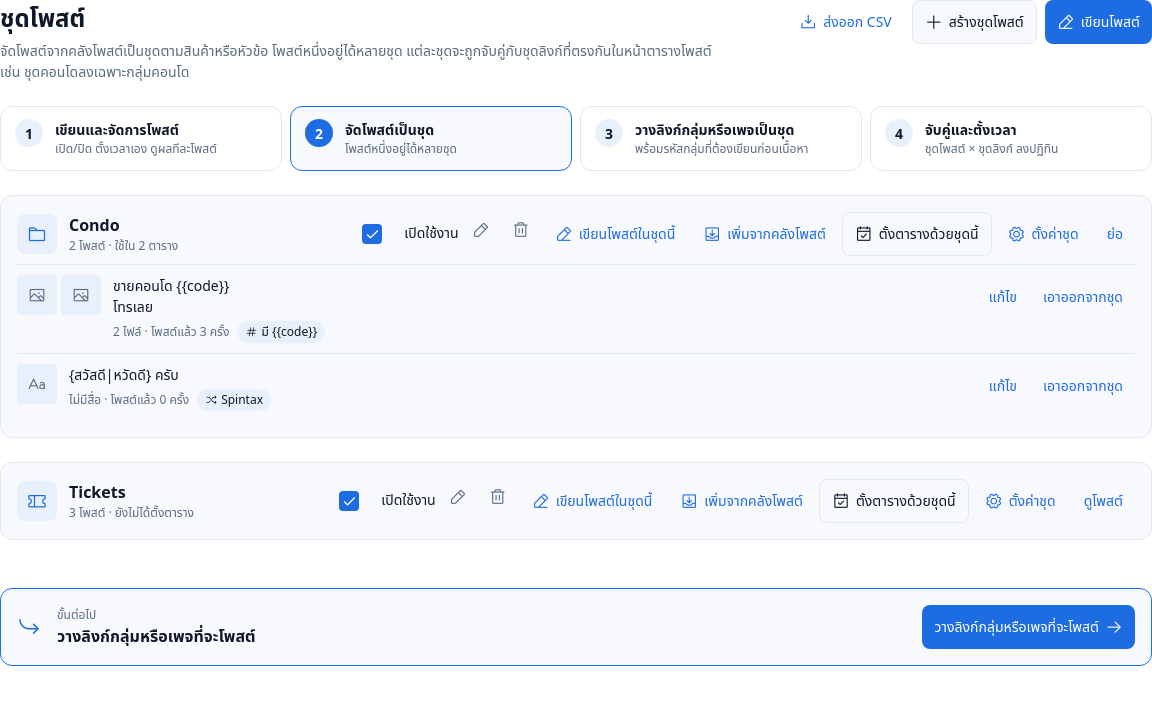
CollectionsPageComponent › new collection › creates the collection, toasts, closes and opens it
Click the button "สร้างชุดโพสต์": click(974, 22) [912, 0, 1037, 44]
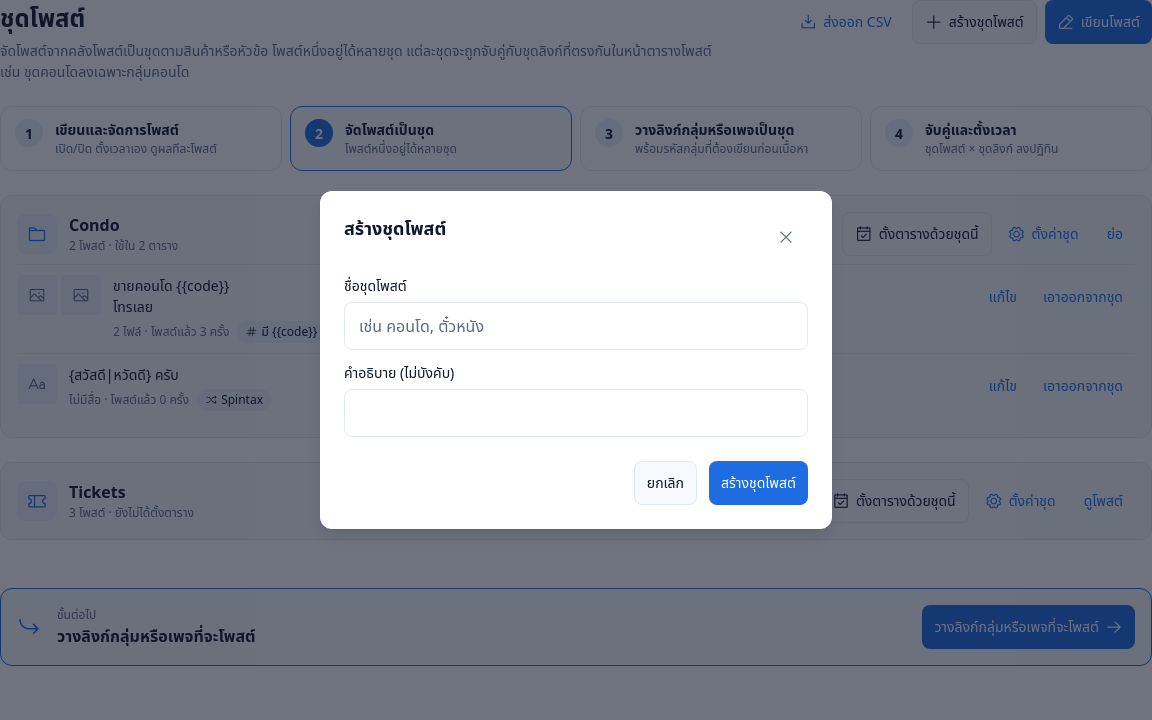
In the field labelled "ชื่อชุดโพสต์": (576, 326) [344, 302, 808, 350], type " Shoes "
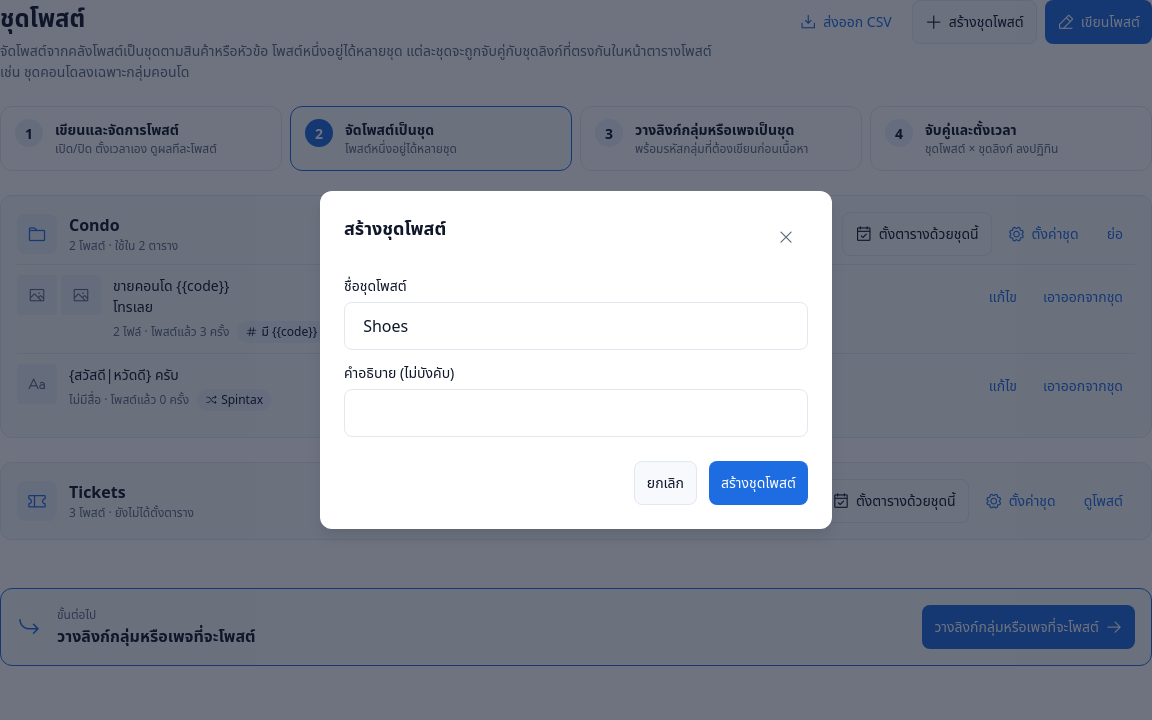
In the field labelled "คำอธิบาย (ไม่บังคับ)": (576, 413) [344, 389, 808, 437], type "for sale"
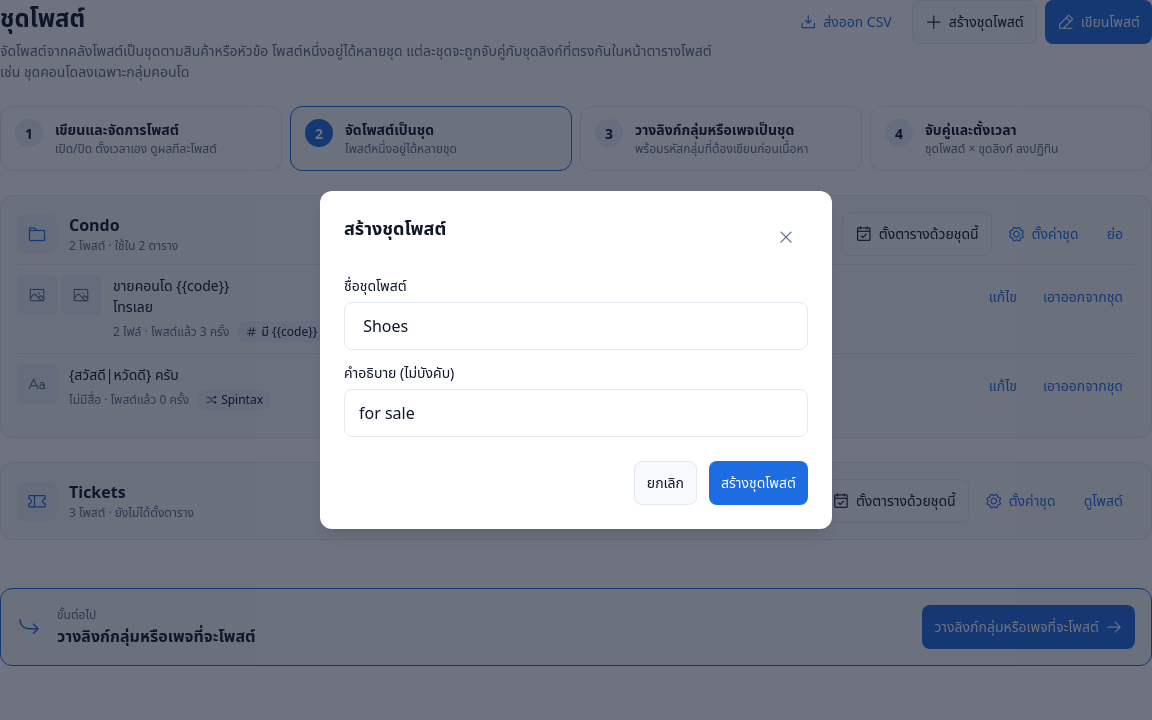
Click the submit button: click(758, 483) [709, 461, 808, 505]
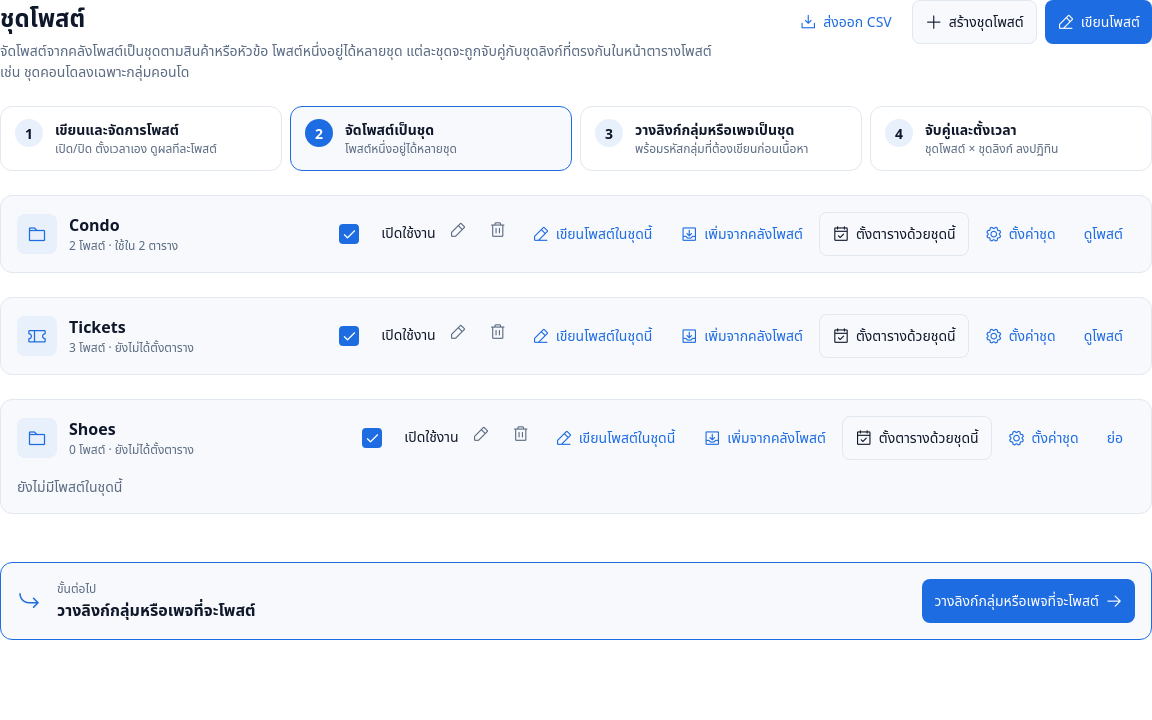
Result: the dialog with class "su-modal-panel" is gone
Result: the element that starts with "Shoes" shows "ยังไม่มีโพสต์ในชุดนี้" at [17, 477, 122, 496]
